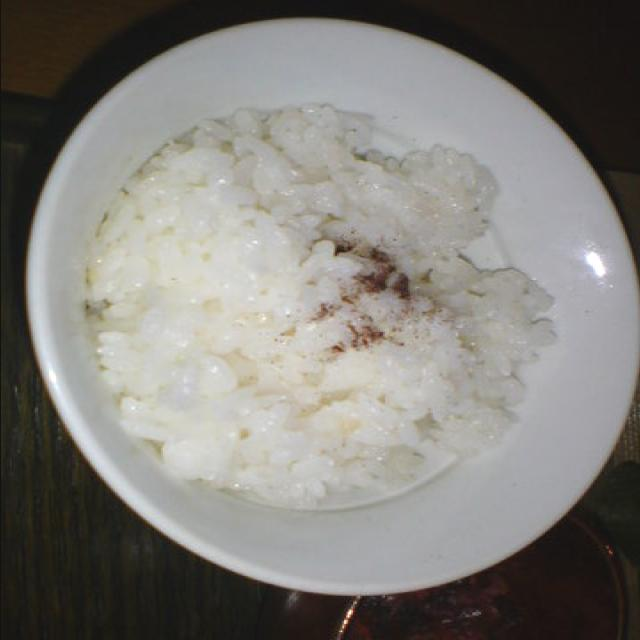nasi: (82, 103, 553, 509)
